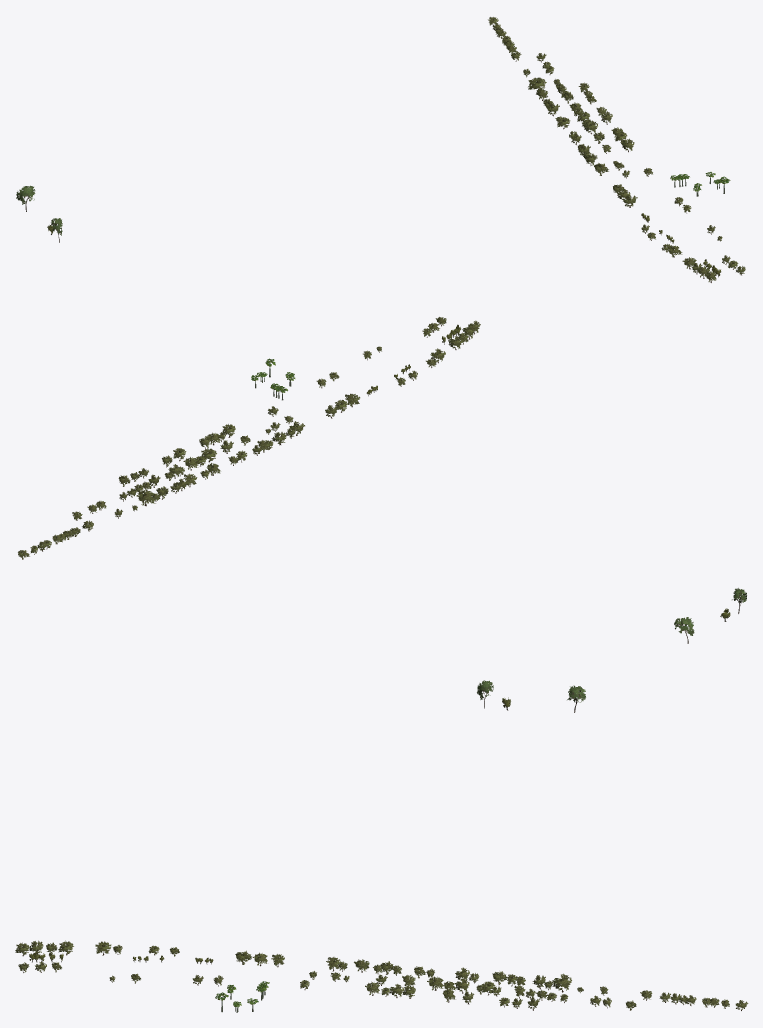
3 views of the same model, one above another, from view 1: azimuth 30°, elevation 25°; view 2: azimuth 150°, elevation 25°; view 3: azimuth 270°, elevation 25° (orthographic). The views are drawn at different scales.
Parts seen in each view (by area): view 1: jacaranda_tree street foliage; view 2: jacaranda_tree street foliage; view 3: jacaranda_tree street foliage.
Boxes of the visible parts, bbox=[...] form: jacaranda_tree street foliage: bbox=[488, 17, 745, 281]; jacaranda_tree street foliage: bbox=[18, 317, 480, 559]; jacaranda_tree street foliage: bbox=[15, 940, 748, 1010].
Bounding box in the file's own units: 558 × 22.94 × 557.
7 materials, 7 textured.
